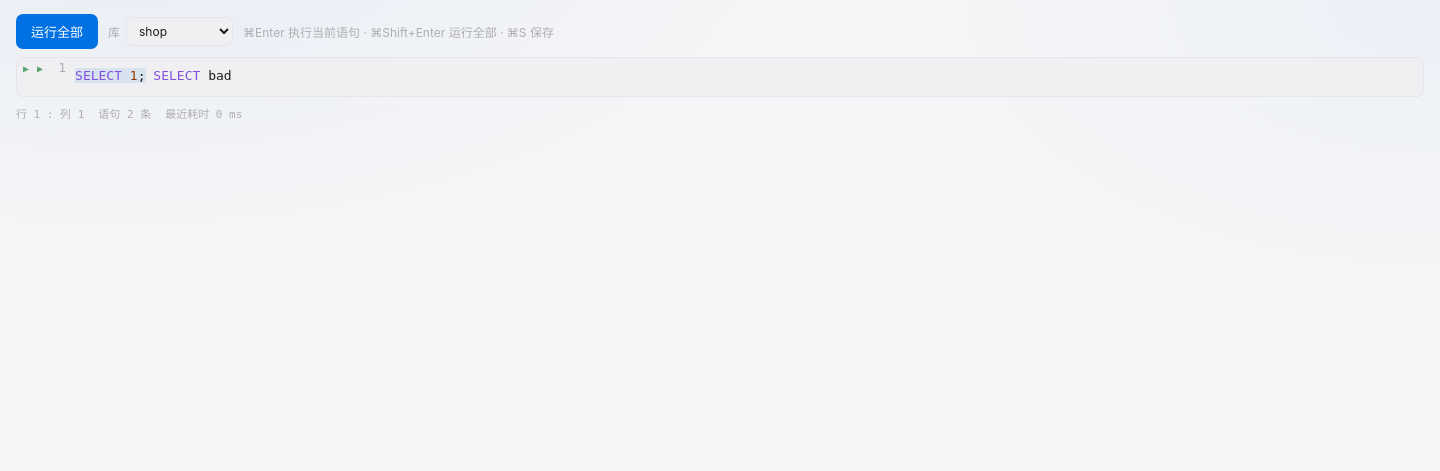
MysqlSqlConsole › 运行全部:整段脚本发给后端,出现 N 个结果 tab,Tab 条下只渲染 active 一张卡
Step 1. Click the button with test id "btn-mysql-run" → (57, 32), box [16,14,98,49]
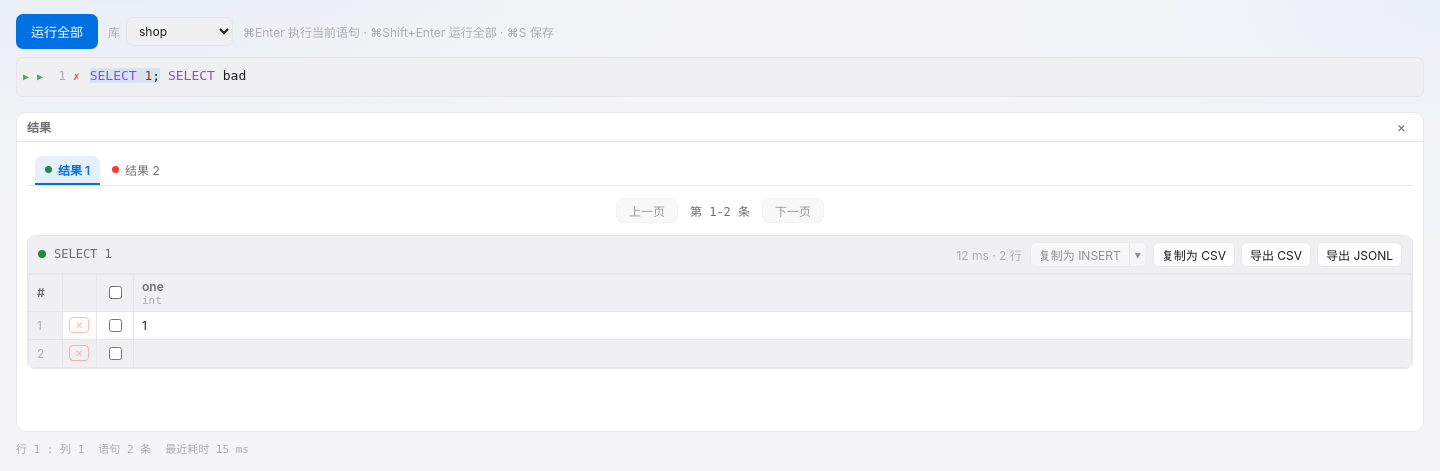
Expected: the number of "SqlResultCard" components is 1, [27,234,1413,368]
Expected: the text "SELECT 1" is shown, [54,247,112,261]
Step 2. Click the button with test id "result-tab-" → (136, 170), box [102,156,170,184]
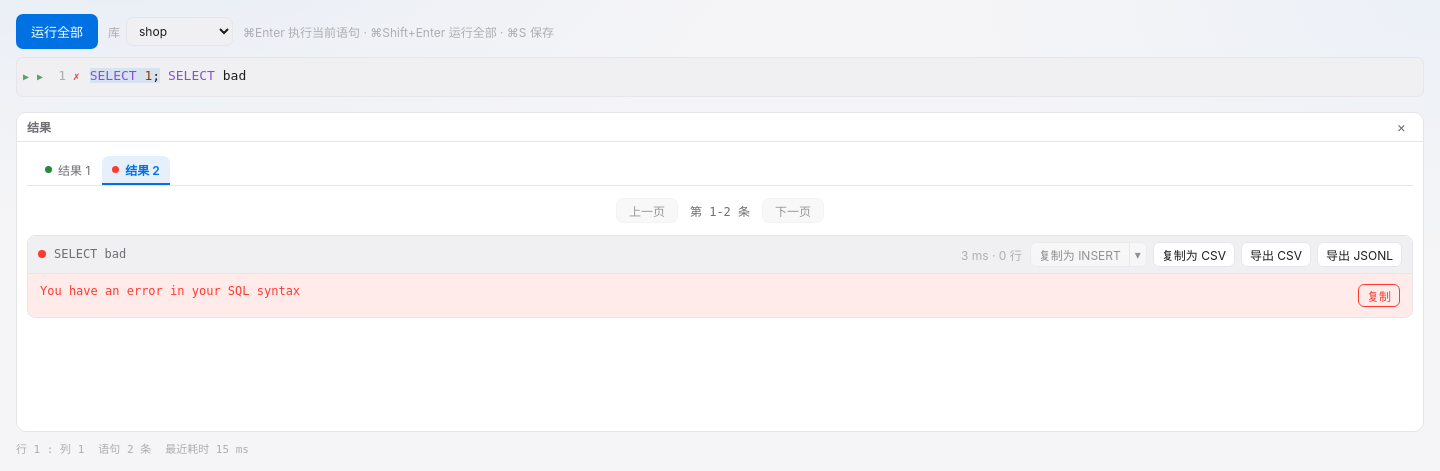
Expected: the text "SELECT bad" is shown, [54,247,126,261]
Expected: the text "You have an error in your SQL syntax" is shown, [40,284,300,298]
